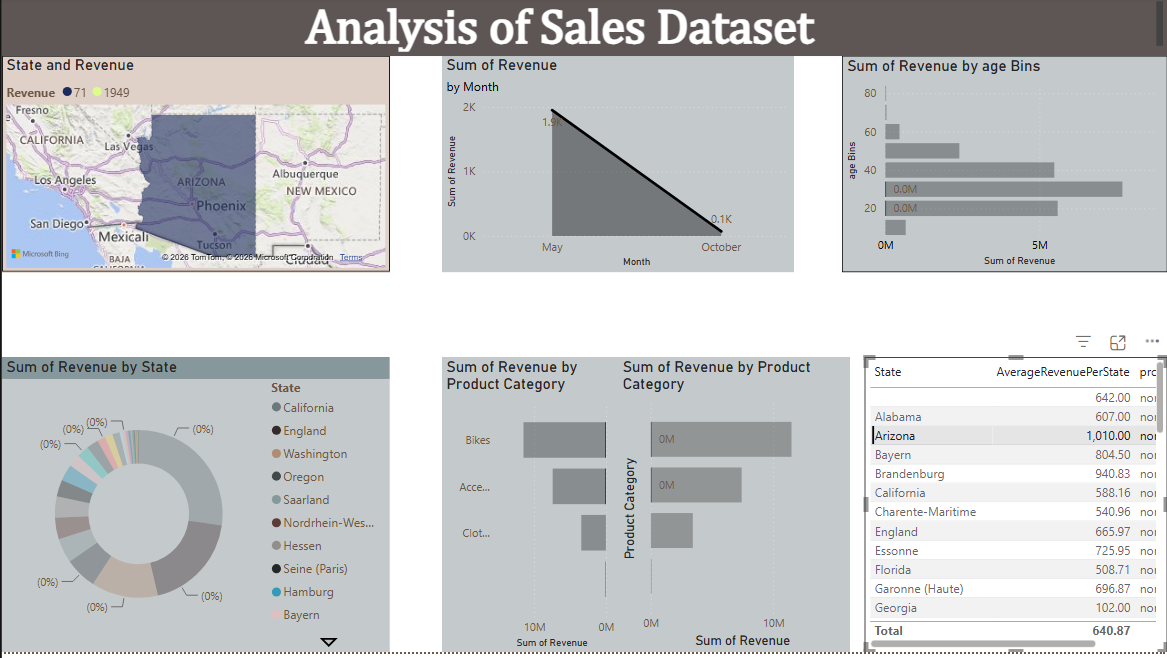

The page's visual inventory and layout, read from the dashboard file:
{"tool":"powerbi","page":{"name":"Page 7","canvas":[1280,720],"ordinal":6},"visuals":[{"type":"filledMap","fields":{"Category":["salesforcourse-4fe2kehu.State"],"Series":["salesforcourse-4fe2kehu.Revenue"]},"box":[0,0,425.9,302.5],"z":0},{"type":"lineChart","fields":{"Y":["Sum(salesforcourse-4fe2kehu.Revenue)"],"Category":["salesforcourse-4fe2kehu.Month"]},"box":[482.7,0,386.4,302.5],"z":1000},{"type":"barChart","fields":{"Y":["Sum(salesforcourse-4fe2kehu.Revenue)"],"Category":["salesforcourse-4fe2kehu.age Bins"]},"box":[922.3,0,358,302],"z":2000},{"type":"donutChart","fields":{"Category":["salesforcourse-4fe2kehu.State"],"Y":["Sum(salesforcourse-4fe2kehu.Revenue)"]},"box":[0,345.7,425.9,375.3],"z":3000},{"type":"barChart","fields":{"Category":["salesforcourse-4fe2kehu.Product Category"],"Y":["Sum(salesforcourse-4fe2kehu.Revenue)"]},"box":[482.7,354.3,193.8,365.4],"z":4000},{"type":"barChart","fields":{"Category":["salesforcourse-4fe2kehu.Product Category"],"Y":["Sum(salesforcourse-4fe2kehu.Revenue)"]},"box":[676.5,354.3,254.3,365.4],"z":5000},{"type":"tableEx","fields":{"Values":["salesforcourse-4fe2kehu.State","salesforcourse-4fe2kehu.AverageRevenuePerState","salesforcourse-4fe2kehu.profitable status"]},"box":[946.9,354.3,333.3,365.4],"z":6000}]}

Visuals, with their boxes in screenshot pixels (x1, y1, x2, y2), scaled from the page's 1280x720 canvas onto the 1167x658 screenshot:
filledMap - salesforcourse-4fe2kehu.State x salesforcourse-4fe2kehu.Revenue: rect(0, 0, 388, 276)
lineChart - Sum(salesforcourse-4fe2kehu.Revenue) x salesforcourse-4fe2kehu.Month: rect(440, 0, 792, 276)
barChart - Sum(salesforcourse-4fe2kehu.Revenue) x salesforcourse-4fe2kehu.age Bins: rect(841, 0, 1166, 276)
donutChart - salesforcourse-4fe2kehu.State x Sum(salesforcourse-4fe2kehu.Revenue): rect(0, 316, 388, 657)
barChart - salesforcourse-4fe2kehu.Product Category x Sum(salesforcourse-4fe2kehu.Revenue): rect(440, 324, 617, 657)
barChart - salesforcourse-4fe2kehu.Product Category x Sum(salesforcourse-4fe2kehu.Revenue): rect(617, 324, 849, 657)
tableEx - salesforcourse-4fe2kehu.State x salesforcourse-4fe2kehu.AverageRevenuePerState: rect(863, 324, 1166, 657)
